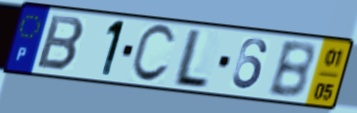1: (98, 18, 128, 81)
6: (230, 37, 269, 93)
B: (34, 13, 87, 73), (265, 40, 316, 101)
C: (127, 23, 178, 86)
L: (168, 28, 212, 92)
